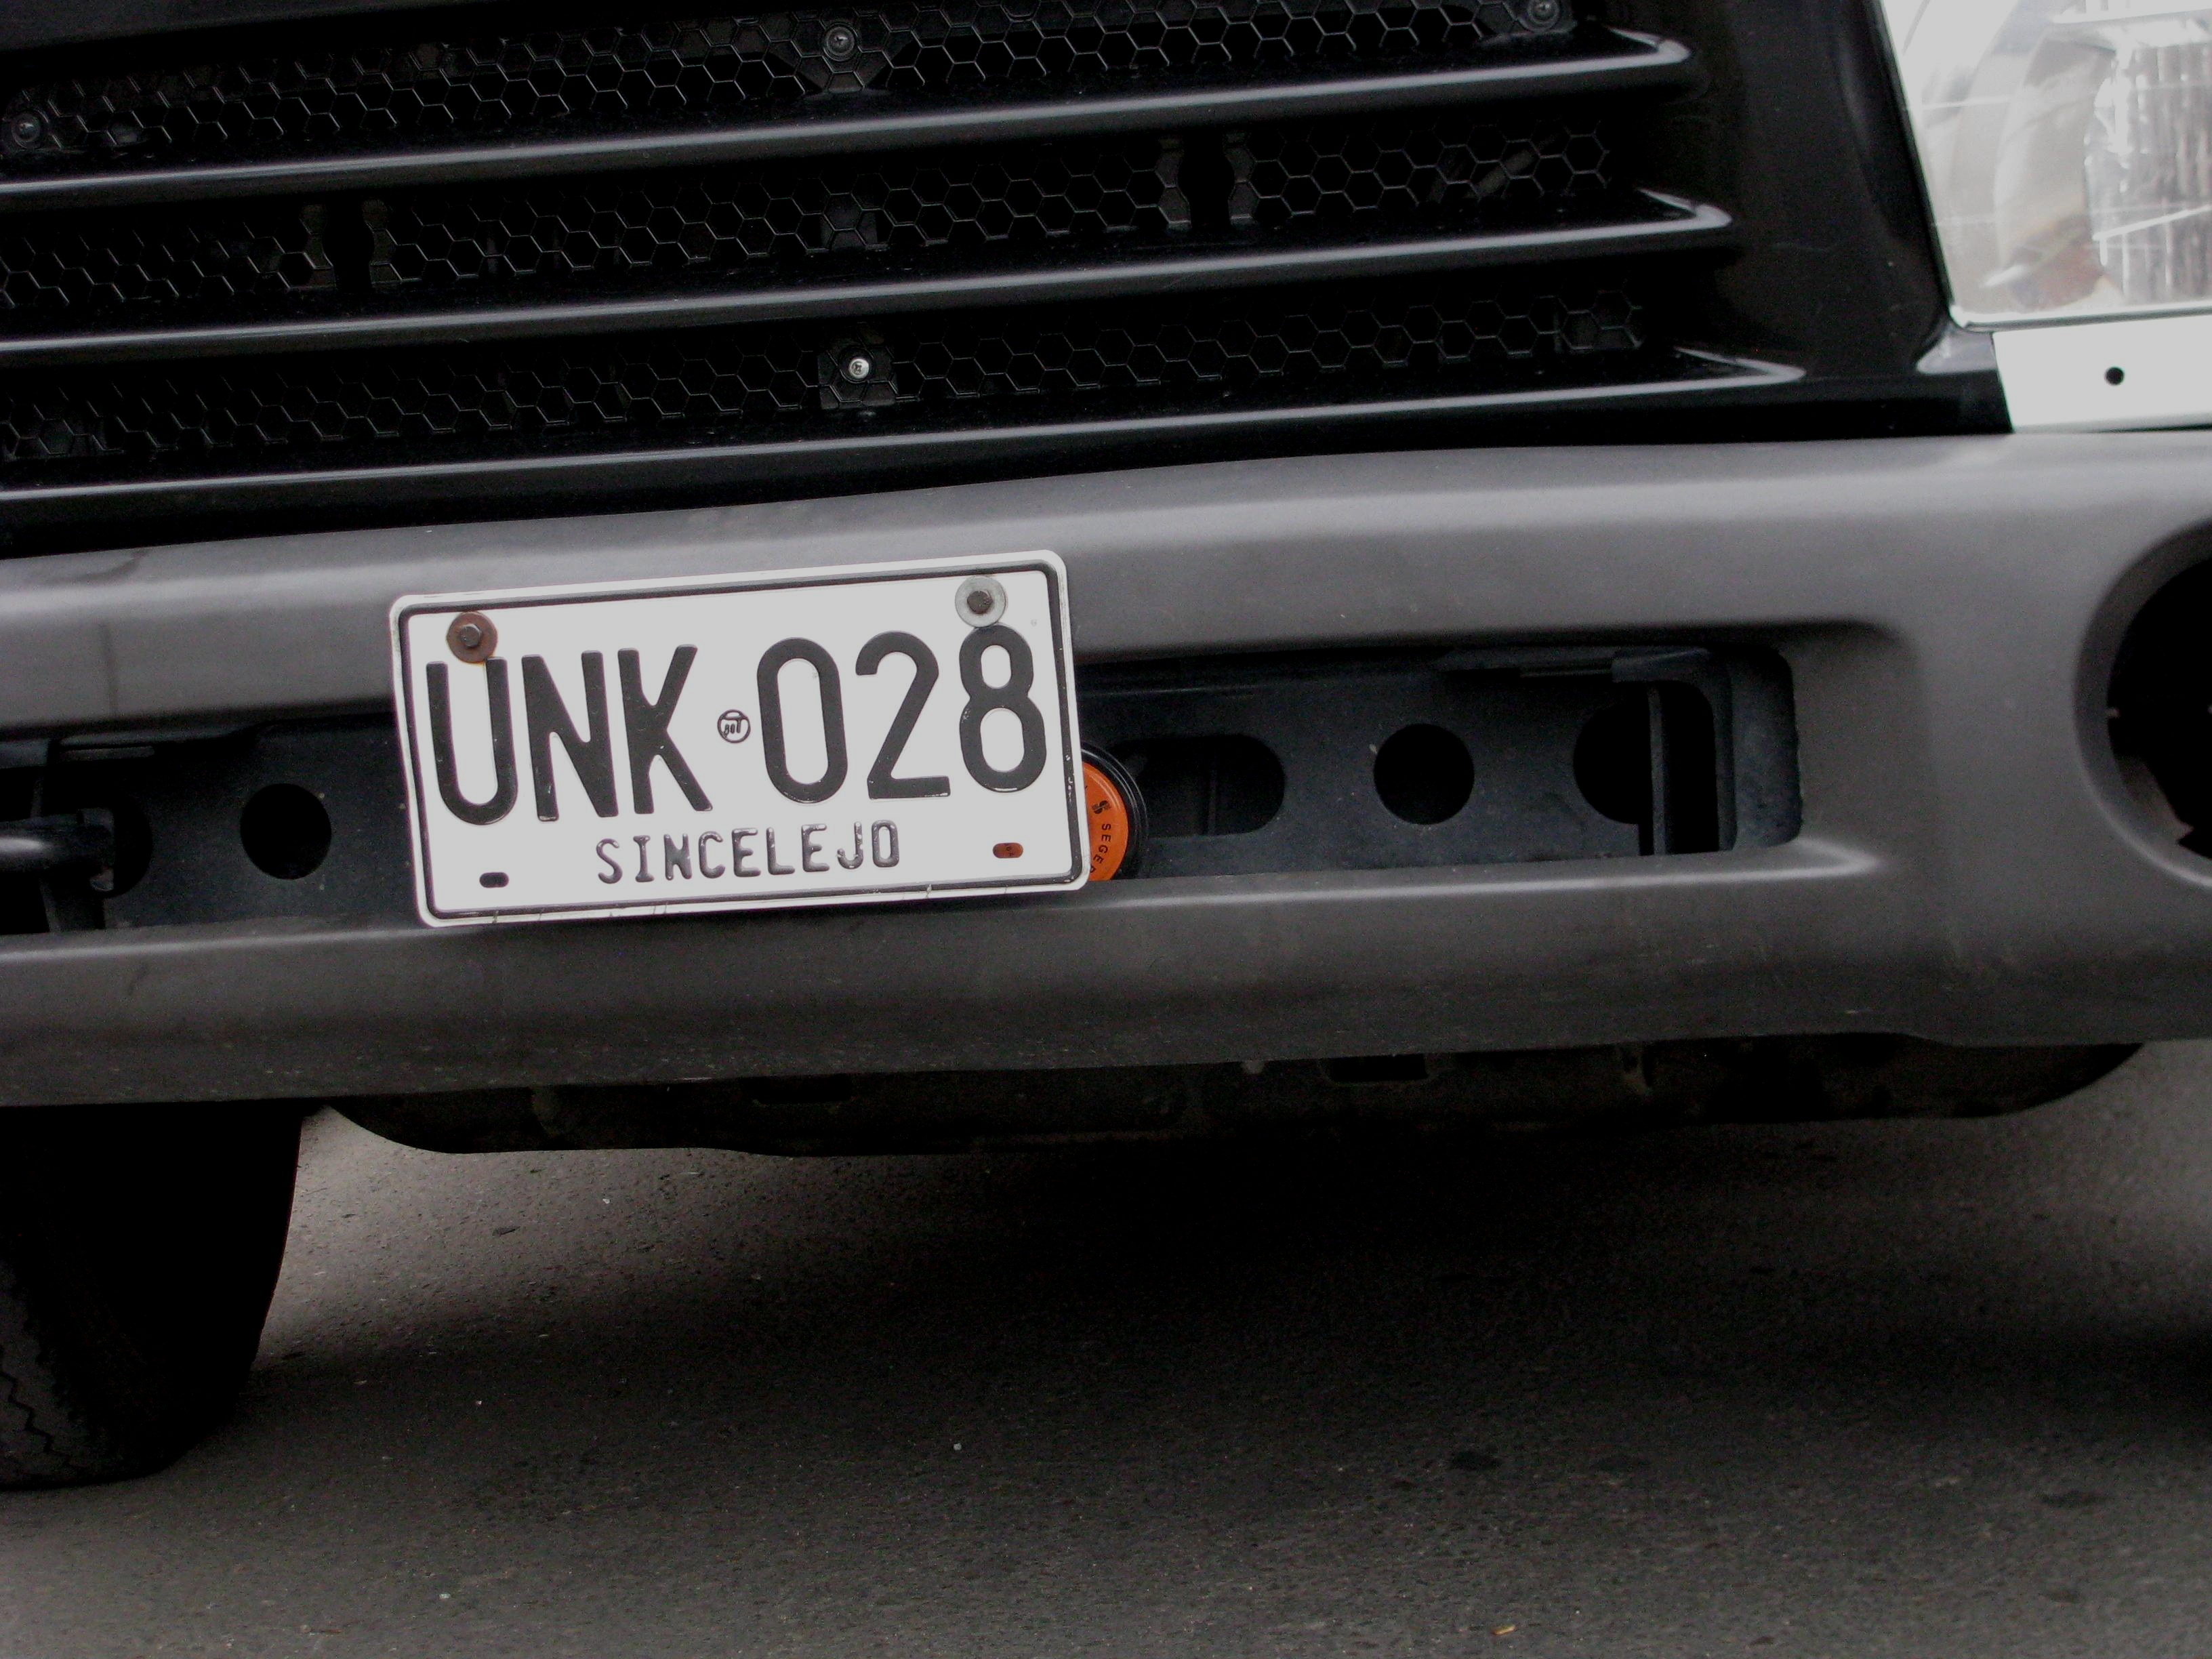placas: (380, 539, 1095, 937)
